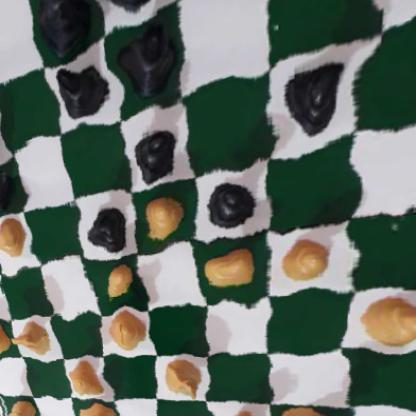black-bishop: (117, 7, 181, 108), (45, 44, 113, 133)
black-king: (91, 0, 165, 26)
black-knight: (0, 162, 20, 220)
black-pawn: (276, 44, 357, 140), (203, 168, 264, 230), (132, 112, 182, 185), (87, 203, 132, 256), (390, 0, 416, 14), (0, 97, 5, 160)
black-queen: (25, 0, 101, 61)
white-bishop: (105, 313, 151, 348), (76, 400, 119, 416)
white-king: (274, 405, 352, 416)
white-knight: (5, 320, 58, 357), (157, 360, 206, 400)
white-pawn: (277, 230, 335, 289), (354, 289, 416, 341), (201, 240, 258, 293), (138, 192, 191, 247), (97, 258, 143, 302), (0, 213, 30, 264), (0, 324, 14, 353)
white-queen: (64, 359, 107, 401)
white-rook: (0, 397, 40, 416), (216, 407, 270, 416)
